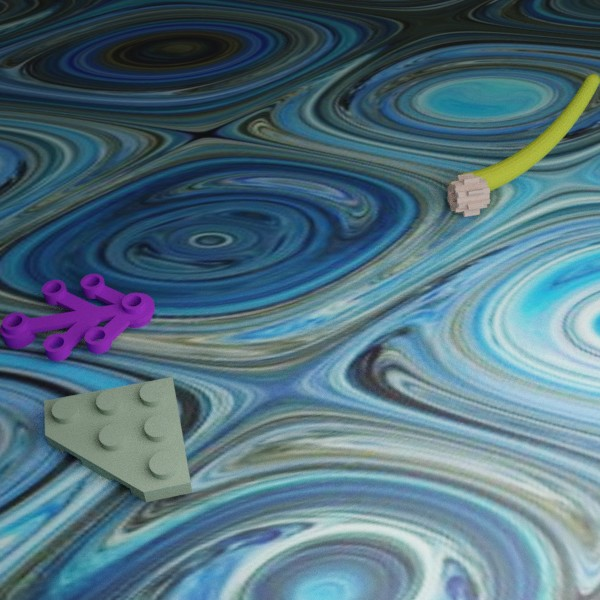lego: (448, 73, 600, 199), (44, 377, 192, 502), (0, 273, 154, 361), (446, 173, 490, 216)
